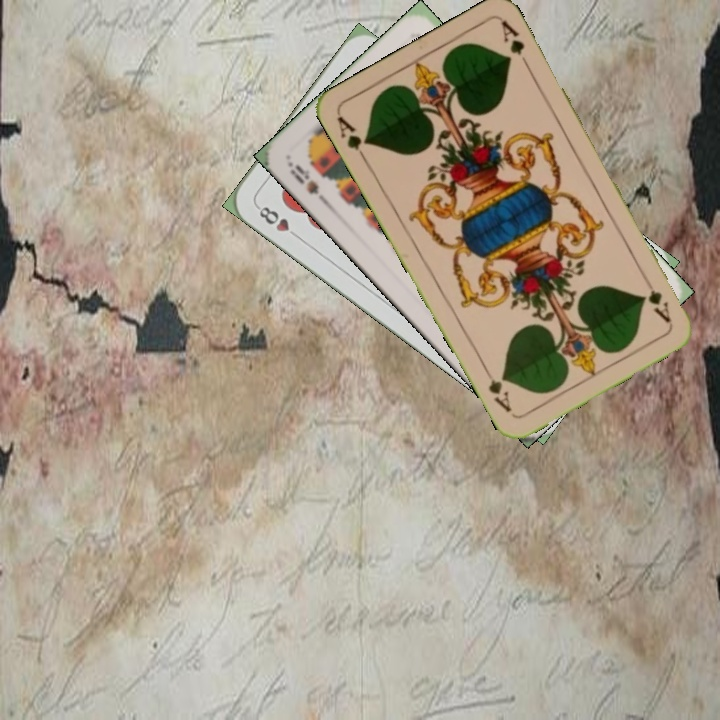GA: (333, 112, 373, 166), (638, 271, 674, 326)
H8: (252, 201, 303, 242)
S8: (283, 157, 329, 205)
